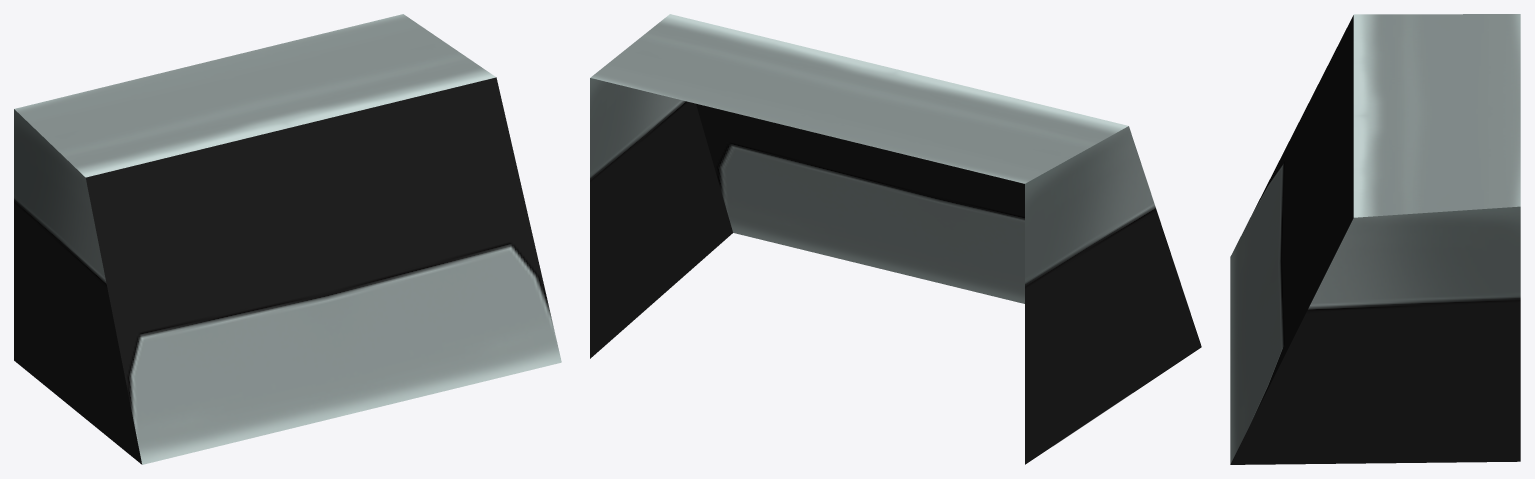
The model's file is net.fbx.
3 views of the same model, side by side, from view 1: azimuth 30°, elevation 25°; view 2: azimuth 150°, elevation 25°; view 3: azimuth 270°, elevation 25° (orthographic). The views are drawn at different scales.
Visible parts, largest first — view 1: polySurface3; view 2: polySurface3; view 3: polySurface3.
Part boxes in pixels (<box>): polySurface3: <box>14,14,561,464</box>; polySurface3: <box>590,14,1201,464</box>; polySurface3: <box>1230,14,1520,464</box>.
Bounding box in the file's own units: 7.98 × 4.57 × 4.72.
